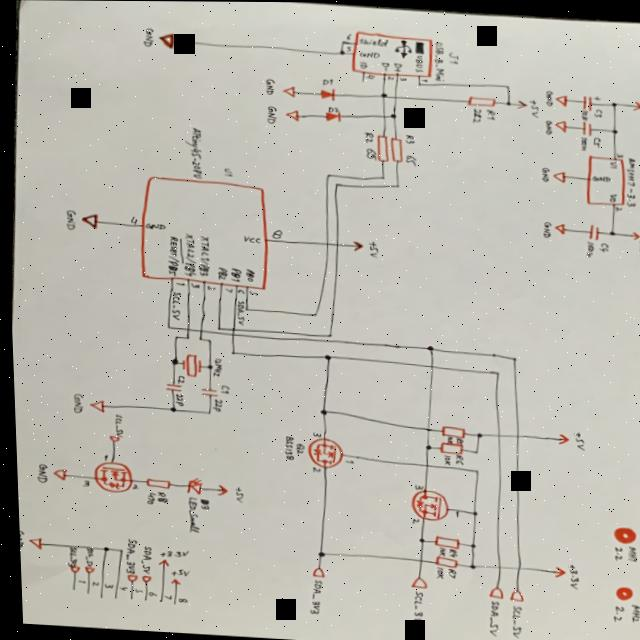capacitor: (581, 93, 602, 110), (586, 222, 600, 239), (579, 120, 594, 135), (162, 381, 180, 391), (197, 386, 216, 395)
crossover: (425, 361, 435, 368), (331, 240, 340, 247), (511, 563, 520, 569), (322, 240, 330, 246), (511, 431, 519, 437), (413, 556, 421, 562), (492, 431, 500, 437), (491, 563, 499, 568), (422, 425, 428, 431), (380, 113, 386, 118), (228, 327, 235, 331), (420, 462, 427, 466), (228, 332, 234, 336), (196, 328, 202, 332), (183, 327, 189, 331), (392, 94, 398, 98)
diode: (181, 476, 201, 495), (319, 85, 336, 100), (324, 109, 342, 121)
ground: (157, 31, 176, 48), (86, 396, 103, 413), (552, 117, 567, 132), (49, 467, 66, 480), (552, 220, 566, 235), (24, 536, 40, 549), (281, 84, 296, 97), (284, 108, 299, 121), (551, 169, 566, 182), (554, 93, 568, 106)
junction: (312, 549, 323, 557), (423, 343, 433, 350), (98, 544, 108, 551), (607, 228, 616, 235), (168, 358, 177, 365), (421, 443, 430, 449), (166, 405, 175, 411), (321, 353, 330, 359), (379, 91, 388, 97), (469, 448, 478, 454), (388, 112, 397, 118), (473, 430, 481, 436), (317, 407, 325, 413), (465, 541, 473, 547), (464, 562, 472, 568), (468, 509, 476, 515), (611, 127, 619, 133), (504, 99, 512, 105), (610, 100, 618, 106), (508, 354, 516, 360), (332, 180, 340, 186), (393, 181, 401, 187), (324, 171, 332, 177), (503, 82, 511, 88), (227, 349, 235, 355), (491, 368, 499, 374), (338, 48, 346, 54), (309, 310, 318, 315), (470, 467, 477, 473), (414, 536, 422, 541), (324, 331, 332, 336), (378, 174, 386, 179), (203, 409, 209, 414), (205, 363, 211, 368), (163, 324, 170, 328), (113, 548, 120, 552), (171, 334, 177, 338), (182, 335, 188, 339), (195, 336, 201, 340), (205, 337, 211, 341), (242, 306, 248, 310), (340, 39, 346, 43), (215, 325, 220, 329), (417, 81, 422, 85)
resistor: (374, 133, 389, 162), (387, 135, 403, 162), (141, 476, 170, 489), (429, 534, 457, 547), (466, 94, 496, 106), (437, 424, 464, 437), (435, 440, 461, 453), (430, 554, 455, 567)
source: (79, 211, 98, 229), (349, 238, 364, 252), (548, 564, 563, 578), (554, 431, 567, 444), (213, 483, 226, 496), (517, 97, 528, 108), (153, 557, 165, 566), (630, 229, 639, 239), (632, 99, 640, 110), (165, 576, 177, 583)
terminal: (405, 575, 425, 588), (484, 584, 501, 598), (504, 587, 521, 600), (306, 565, 322, 576), (64, 564, 77, 573), (122, 573, 134, 582), (80, 564, 91, 573), (137, 573, 148, 582), (105, 434, 117, 442), (109, 595, 113, 599), (68, 587, 72, 591), (168, 601, 173, 604), (154, 598, 158, 601), (82, 591, 86, 594), (139, 598, 143, 600), (125, 597, 129, 599), (95, 595, 99, 597)
text: (181, 125, 205, 178), (482, 594, 502, 637), (164, 234, 184, 276), (622, 155, 638, 206), (180, 232, 197, 276), (501, 601, 521, 636), (404, 589, 421, 628), (182, 495, 199, 533), (304, 577, 321, 614), (195, 235, 210, 276), (433, 40, 448, 81), (119, 537, 135, 574), (135, 544, 150, 574), (562, 561, 578, 588), (167, 290, 180, 319), (62, 207, 78, 230), (358, 35, 389, 46), (156, 547, 187, 558), (568, 429, 584, 450), (32, 462, 47, 483), (281, 435, 293, 460), (69, 392, 83, 413), (110, 413, 122, 437), (209, 357, 223, 377), (625, 602, 639, 622), (142, 26, 155, 47), (265, 104, 278, 124), (234, 298, 244, 324), (366, 239, 379, 258), (608, 603, 621, 622), (264, 78, 277, 95), (622, 544, 635, 561), (80, 546, 91, 566), (63, 546, 74, 566), (540, 220, 552, 238), (230, 484, 242, 502), (413, 54, 425, 72), (170, 390, 183, 406), (539, 164, 551, 181), (609, 544, 621, 561), (471, 106, 483, 123), (543, 88, 554, 106), (528, 98, 539, 116), (228, 266, 241, 281), (144, 221, 165, 230), (584, 239, 595, 256), (358, 49, 381, 57), (152, 489, 166, 502), (194, 497, 208, 510), (446, 50, 460, 63), (403, 153, 417, 166), (364, 146, 377, 160), (210, 397, 222, 412), (578, 135, 590, 150), (241, 234, 260, 243), (483, 106, 496, 119), (242, 267, 254, 281), (142, 490, 154, 504), (168, 567, 186, 576), (15, 528, 23, 548), (543, 118, 553, 134), (597, 240, 610, 252), (291, 441, 303, 454), (590, 134, 602, 147), (362, 130, 374, 143), (216, 265, 227, 279), (403, 132, 417, 143), (591, 173, 610, 181), (269, 227, 282, 238), (430, 565, 441, 578), (451, 452, 462, 464), (579, 107, 590, 119), (442, 566, 453, 577), (222, 166, 233, 176), (174, 373, 184, 384), (444, 546, 454, 557), (592, 106, 603, 116), (321, 76, 333, 85), (171, 595, 184, 603), (393, 61, 403, 71), (636, 233, 640, 258), (433, 545, 443, 555), (439, 453, 448, 464), (327, 105, 340, 112), (607, 192, 617, 201), (381, 60, 391, 69), (358, 59, 368, 68), (128, 215, 138, 224), (78, 478, 88, 487), (218, 384, 228, 393), (607, 159, 617, 168), (143, 590, 154, 598), (158, 593, 170, 600), (188, 281, 198, 289), (410, 481, 420, 489), (246, 288, 257, 295), (308, 430, 319, 437), (204, 283, 214, 290), (222, 285, 232, 292), (100, 581, 110, 588), (365, 72, 376, 78), (452, 437, 460, 445), (443, 435, 451, 443), (345, 32, 353, 40), (130, 587, 140, 593), (341, 458, 351, 464), (637, 107, 640, 126), (345, 44, 353, 51), (235, 288, 244, 294), (408, 517, 417, 523), (309, 465, 318, 471), (114, 585, 124, 590), (72, 578, 82, 583), (174, 280, 184, 285), (87, 580, 95, 586), (128, 483, 136, 489), (615, 150, 623, 156), (614, 204, 622, 210), (399, 75, 408, 80), (637, 174, 640, 189), (451, 509, 457, 516), (100, 454, 106, 460), (387, 74, 394, 79), (420, 77, 428, 81)
transistor: (88, 459, 131, 493), (406, 487, 449, 521), (302, 435, 342, 469)
